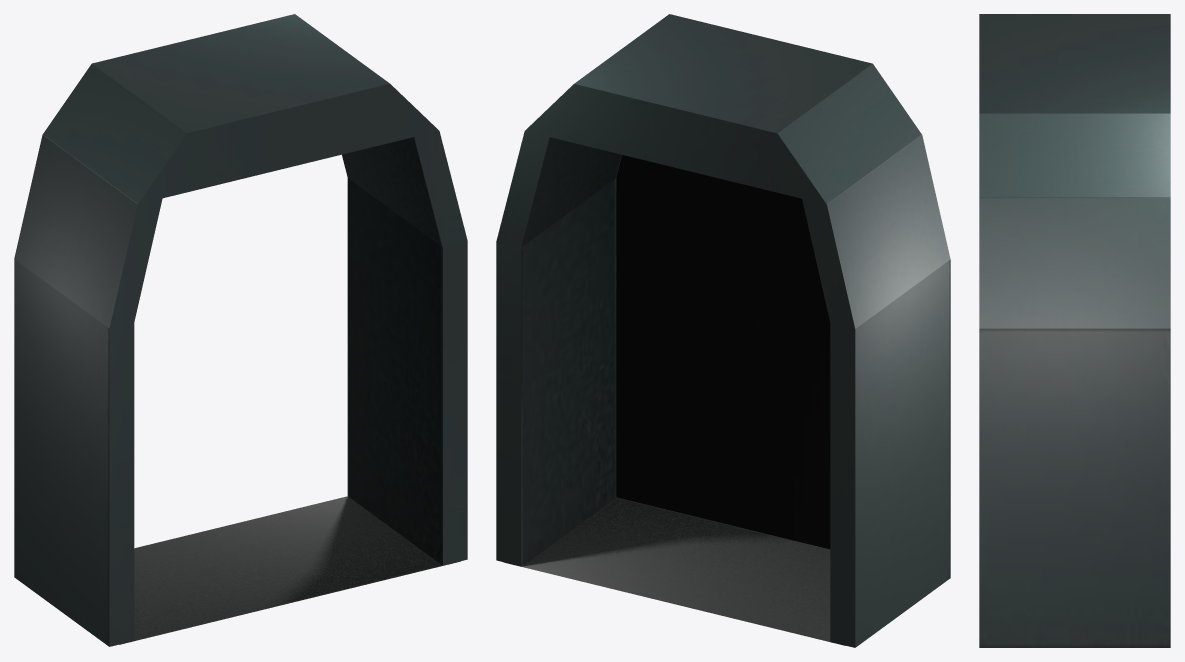
The model's file is levelexit3.dae.
The picture shows the model from 3 angles, left to right: view 1: azimuth 30°, elevation 25°; view 2: azimuth 150°, elevation 25°; view 3: azimuth 270°, elevation 25°; orthographic projection.
Parts seen in each view (by area): view 1: Cube; view 2: Cube; view 3: Cube.
Part boxes in pixels (x1=…): Cube: x1=14, y1=14, x2=467, y2=646; Cube: x1=496, y1=14, x2=950, y2=647; Cube: x1=979, y1=14, x2=1170, y2=647.
Size of the model in its own units: 4.35 by 2 by 5.77.
Materials: 1 (1 with a texture image).
